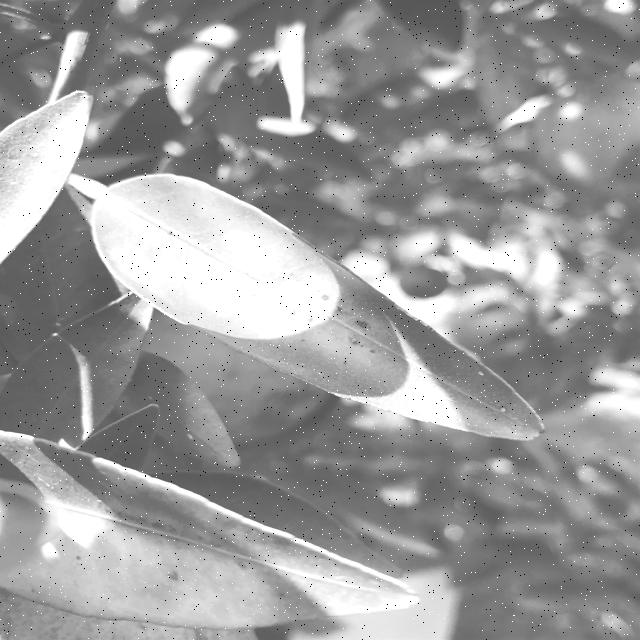canker: (18, 494, 313, 614), (231, 267, 438, 400)
